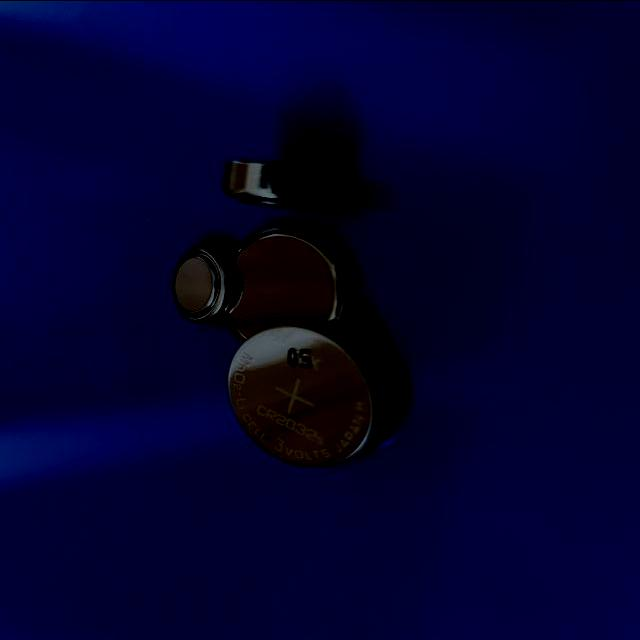COIN: (224, 324, 389, 468), (218, 221, 366, 348), (218, 150, 346, 212), (168, 242, 238, 327)
